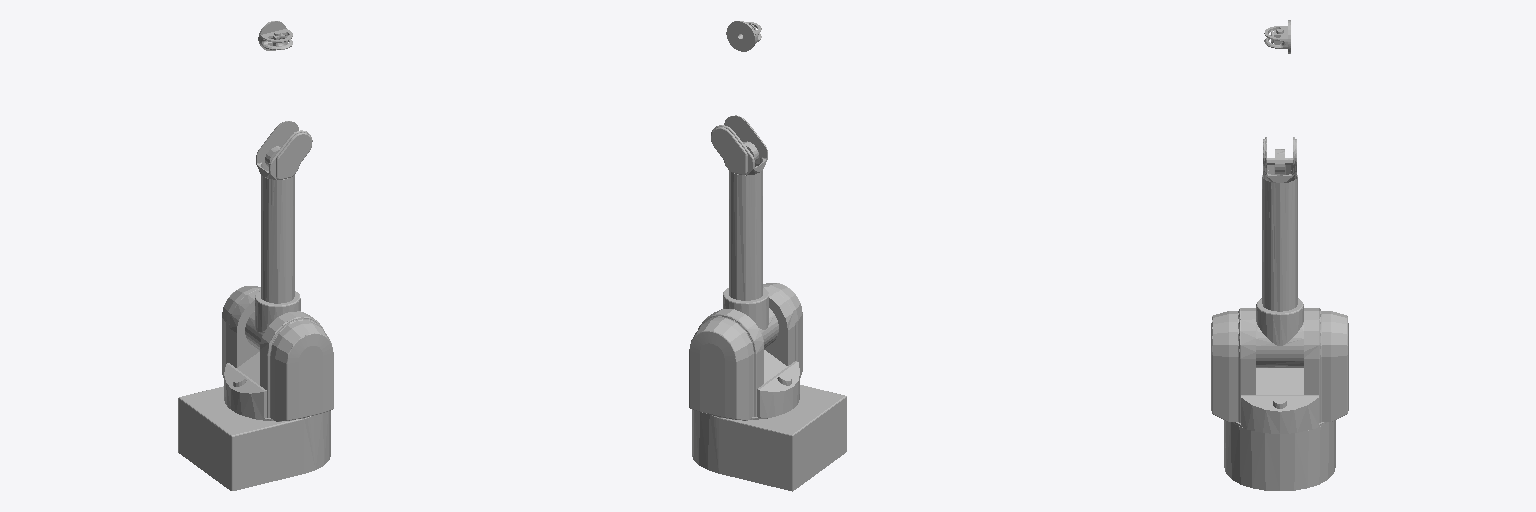
URDF robot description (iri_wam):
<?xml version="1.0" ?>
<!-- =================================================================================== -->
<!-- |    This document was autogenerated by xacro from xacro/wam_sim.urdf.xacro       | -->
<!-- |    EDITING THIS FILE BY HAND IS NOT RECOMMENDED                                 | -->
<!-- =================================================================================== -->
<robot name="iri_wam" xmlns:controller="http://playerstage.sourceforge.net/gazebo/xmlschema/#controller" xmlns:interface="http://playerstage.sourceforge.net/gazebo/xmlschema/#interface" xmlns:sensor="http://playerstage.sourceforge.net/gazebo/xmlschema/#sensor" xmlns:xacro="http://ros.org/wiki/xacro">
  <!-- Constants -->
  <!-- Includes -->
  <!-- MACROS -->
  <!-- LINKS   -->
  <link name="wambase">
    <inertial>
      <origin rpy="0 0 0" xyz="0 0 0"/>
      <mass value="1"/>
      <inertia ixx="100" ixy="0" ixz="0" iyy="100" iyz="0" izz="100"/>
    </inertial>
    <visual>
      <origin rpy="0 0 0" xyz="0 0 0"/>
      <geometry name="wambase-geom">
        <mesh filename="package://iri_wam_description/mesh/wambase.stl"/>
      </geometry>
      <material name="wambase-mat">
        <color rgba="0.75 0.75 0.75 1.0"/>
      </material>
    </visual>
    <collision>
      <origin rpy="0 0 0" xyz="0 0 0"/>
      <geometry name="wambase-geom">
        <mesh filename="package://iri_wam_description/mesh/wambase.stl"/>
      </geometry>
      <contact_coefficients kd="1.0" kp="1000.0" mu="0"/>
    </collision>
  </link>
  <!-- TODO: Try to add wam0 virtual Link and its corresponding joint since it is how it is defined on the real kinematics
           Not sure if this is possible -->
  <link name="wam_fk/wam1">
    <inertial>
      <origin rpy="0 0 0" xyz="0 0 0"/>
      <mass value="0.1"/>
      <inertia ixx="100" ixy="0" ixz="0" iyy="100" iyz="0" izz="100"/>
    </inertial>
    <visual>
      <origin rpy="0 0 0" xyz="0 0 0"/>
      <geometry name="wam1-geom">
        <mesh filename="package://iri_wam_description/mesh/wam1.stl"/>
      </geometry>
      <material name="wam1-mat">
        <color rgba="0.75 0.75 0.75 1.0"/>
      </material>
    </visual>
    <collision>
      <origin rpy="0 0 0" xyz="0 0 0"/>
      <geometry name="wam1-geom">
        <mesh filename="package://iri_wam_description/mesh/wam1.stl"/>
      </geometry>
      <contact_coefficients kd="1.0" kp="1000.0" mu="0"/>
    </collision>
  </link>
  <link name="wam_fk/wam2">
    <inertial>
      <origin rpy="0 0 0" xyz="0 0 0"/>
      <mass value="0.1"/>
      <inertia ixx="100" ixy="0" ixz="0" iyy="100" iyz="0" izz="100"/>
    </inertial>
    <visual>
      <origin rpy="0 0 0" xyz="0 0 0"/>
      <geometry name="wam2-geom">
        <mesh filename="package://iri_wam_description/mesh/wam2.stl"/>
      </geometry>
      <material name="wam2-mat">
        <color rgba="0.75 0.75 0.75 1.0"/>
      </material>
    </visual>
    <collision>
      <origin rpy="0 0 0" xyz="0 0 0"/>
      <geometry name="wam2-geom">
        <mesh filename="package://iri_wam_description/mesh/wam2.stl"/>
      </geometry>
      <contact_coefficients kd="1.0" kp="1000.0" mu="0"/>
    </collision>
  </link>
  <link name="wam_fk/wam3">
    <inertial>
      <origin rpy="0 0 0" xyz="0 0 0"/>
      <mass value="0.1"/>
      <inertia ixx="100" ixy="0" ixz="0" iyy="100" iyz="0" izz="100"/>
    </inertial>
    <visual>
      <origin rpy="0 0 0" xyz="0 0 0"/>
      <geometry name="wam3-geom">
        <mesh filename="package://iri_wam_description/mesh/wam3.stl"/>
      </geometry>
      <material name="wam3-mat">
        <color rgba="0.75 0.75 0.75 1.0"/>
      </material>
    </visual>
    <collision>
      <origin rpy="0 0 0" xyz="0 0 0"/>
      <geometry name="wam3-geom">
        <mesh filename="package://iri_wam_description/mesh/wam3.stl"/>
      </geometry>
      <contact_coefficients kd="1.0" kp="1000.0" mu="0"/>
    </collision>
  </link>
  <link name="wam_fk/wam4">
    <inertial>
      <origin rpy="0 0 0" xyz="0 0 0"/>
      <mass value="0.1"/>
      <inertia ixx="100" ixy="0" ixz="0" iyy="100" iyz="0" izz="100"/>
    </inertial>
    <visual>
      <origin rpy="0 0 0" xyz="0 0 0"/>
      <geometry name="wam4-geom">
        <mesh filename="package://iri_wam_description/mesh/wam4.stl"/>
      </geometry>
      <material name="wam4-mat">
        <color rgba="0.75 0.75 0.75 1.0"/>
      </material>
    </visual>
    <collision>
      <origin rpy="0 0 0" xyz="0 0 0"/>
      <geometry name="wam4-geom">
        <mesh filename="package://iri_wam_description/mesh/wam4.stl"/>
      </geometry>
      <contact_coefficients kd="1.0" kp="1000.0" mu="0"/>
    </collision>
  </link>
  <link name="wam_fk/wam5">
    <inertial>
      <origin rpy="0 0 0" xyz="0 0 0"/>
      <mass value="0.1"/>
      <inertia ixx="100" ixy="0" ixz="0" iyy="100" iyz="0" izz="100"/>
    </inertial>
    <visual>
      <origin rpy="0 0 0" xyz="0 0 0"/>
      <geometry name="wam5-geom">
        <mesh filename="package://iri_wam_description/mesh/wam5.stl"/>
      </geometry>
      <material name="wam5-mat">
        <color rgba="0.75 0.75 0.75 1.0"/>
      </material>
    </visual>
    <collision>
      <origin rpy="0 0 0" xyz="0 0 0"/>
      <geometry name="wam5-geom">
        <mesh filename="package://iri_wam_description/mesh/wam5.stl"/>
      </geometry>
      <contact_coefficients kd="1.0" kp="1000.0" mu="0"/>
    </collision>
  </link>
  <link name="wam_fk/wam6">
    <inertial>
      <origin rpy="0 0 0" xyz="0 0 0"/>
      <mass value="0.1"/>
      <inertia ixx="100" ixy="0" ixz="0" iyy="100" iyz="0" izz="100"/>
    </inertial>
    <visual>
      <origin rpy="0 0 0" xyz="0 0 0"/>
      <geometry name="wam6-geom">
        <mesh filename="package://iri_wam_description/mesh/wam6.stl"/>
      </geometry>
      <material name="wam6-mat">
        <color rgba="0.75 0.75 0.75 1.0"/>
      </material>
    </visual>
    <collision>
      <origin rpy="0 0 0" xyz="0 0 0"/>
      <geometry name="wam6-geom">
        <mesh filename="package://iri_wam_description/mesh/wam6.stl"/>
      </geometry>
      <contact_coefficients kd="1.0" kp="1000.0" mu="0"/>
    </collision>
  </link>
  <link name="wam_fk/wam7">
    <inertial>
      <origin rpy="0 0 0" xyz="0 0 0"/>
      <mass value="0.1"/>
      <inertia ixx="100" ixy="0" ixz="0" iyy="100" iyz="0" izz="100"/>
    </inertial>
    <visual>
      <origin rpy="0 0 0" xyz="0 0 0"/>
      <geometry name="wam7-geom">
        <mesh filename="package://iri_wam_description/mesh/wam7.stl"/>
      </geometry>
      <material name="wam7-mat">
        <color rgba="0.75 0.75 0.75 1.0"/>
      </material>
    </visual>
    <collision>
      <origin rpy="0 0 0" xyz="0 0 0"/>
      <geometry name="wam7-geom">
        <mesh filename="package://iri_wam_description/mesh/wam7.stl"/>
      </geometry>
      <contact_coefficients kd="1.0" kp="1000.0" mu="0"/>
    </collision>
  </link>
  <!-- JOINTS  -->
  <joint name="j1" type="revolute">
    <parent link="wambase"/>
    <child link="wam_fk/wam1"/>
    <origin rpy="0 0 0" xyz="0.22 0.14 0.346"/>
    <limit effort="30" lower="-2.6" upper="2.6" velocity="2"/>
    <axis xyz="0 0 1"/>
  </joint>
  <joint name="j2" type="revolute">
    <parent link="wam_fk/wam1"/>
    <child link="wam_fk/wam2"/>
    <origin rpy="0 0 0" xyz="0 0 0"/>
    <limit effort="30" lower="-2.0" upper="2.0" velocity="2"/>
    <axis xyz="0 1 0"/>
  </joint>
  <joint name="j3" type="revolute">
    <parent link="wam_fk/wam2"/>
    <child link="wam_fk/wam3"/>
    <origin rpy="0 0 0" xyz="0.0 0.0 0.0"/>
    <limit effort="30" lower="-2.8" upper="2.8" velocity="2"/>
    <axis xyz="0 0 1"/>
  </joint>
  <joint name="j4" type="revolute">
    <parent link="wam_fk/wam3"/>
    <child link="wam_fk/wam4"/>
    <origin rpy="-1.5708 0 0" xyz="0.045 0 0.55"/>
    <limit effort="30" lower="-0.9" upper="3.1" velocity="2"/>
    <axis xyz="0 0 1"/>
  </joint>
  <joint name="j5" type="revolute">
    <parent link="wam_fk/wam4"/>
    <child link="wam_fk/wam5"/>
    <origin rpy="1.5708 0 0" xyz="-0.045 -0.3 0"/>
    <limit effort="30" lower="-4.8" upper="1.3" velocity="2"/>
    <axis xyz="0 0 1"/>
  </joint>
  <joint name="j6" type="revolute">
    <parent link="wam_fk/wam5"/>
    <child link="wam_fk/wam6"/>
    <origin rpy="-1.5708 0 0" xyz="0 0 0"/>
    <limit effort="30" lower="-1.6" upper="1.6" velocity="2"/>
    <axis xyz="0 0 1"/>
  </joint>
  <joint name="j7" type="revolute">
    <parent link="wam_fk/wam6"/>
    <child link="wam_fk/wam7"/>
    <origin rpy="1.5708 0 0" xyz="0 0 0"/>
    <limit effort="30" lower="-2.2" upper="2.2" velocity="2"/>
    <axis xyz="0 0 1"/>
  </joint>
  <!-- Transmission -->
  <transmission name="linkb_link0_trans" type="pr2_mechanism_model/SimpleTransmission">
    <actuator name="linkb_link0_motor"/>
    <joint name="j0"/>
    <mechanicalReduction>1</mechanicalReduction>
    <motorTorqueConstant>1</motorTorqueConstant>
    <!--  <pulsesPerRevolution>90000</pulsesPerRevolution>-->
  </transmission>
  <transmission name="link0_link1_trans" type="pr2_mechanism_model/SimpleTransmission">
    <actuator name="link0_link1_motor"/>
    <joint name="j1"/>
    <mechanicalReduction>1</mechanicalReduction>
    <motorTorqueConstant>1</motorTorqueConstant>
    <!--  <pulsesPerRevolution>90000</pulsesPerRevolution>-->
  </transmission>
  <transmission name="link1_link2_trans" type="pr2_mechanism_model/SimpleTransmission">
    <actuator name="link1_link2_motor"/>
    <joint name="j2"/>
    <mechanicalReduction>1</mechanicalReduction>
    <motorTorqueConstant>1</motorTorqueConstant>
    <!--  <pulsesPerRevolution>90000</pulsesPerRevolution>-->
  </transmission>
  <transmission name="link2_link3_trans" type="pr2_mechanism_model/SimpleTransmission">
    <actuator name="link2_link3_motor"/>
    <joint name="j3"/>
    <mechanicalReduction>1</mechanicalReduction>
    <motorTorqueConstant>1</motorTorqueConstant>
    <!--  <pulsesPerRevolution>90000</pulsesPerRevolution>-->
  </transmission>
  <transmission name="link3_link4_trans" type="pr2_mechanism_model/SimpleTransmission">
    <actuator name="link3_link4_motor"/>
    <joint name="j4"/>
    <mechanicalReduction>1</mechanicalReduction>
    <motorTorqueConstant>1</motorTorqueConstant>
    <!--  <pulsesPerRevolution>90000</pulsesPerRevolution>-->
  </transmission>
  <transmission name="link4_link5_trans" type="pr2_mechanism_model/SimpleTransmission">
    <actuator name="link4_link5_motor"/>
    <joint name="j5"/>
    <mechanicalReduction>1</mechanicalReduction>
    <motorTorqueConstant>1</motorTorqueConstant>
    <!--  <pulsesPerRevolution>90000</pulsesPerRevolution>-->
  </transmission>
  <transmission name="link5_link6_trans" type="pr2_mechanism_model/SimpleTransmission">
    <actuator name="link5_link6_motor"/>
    <joint name="j6"/>
    <mechanicalReduction>1</mechanicalReduction>
    <motorTorqueConstant>1</motorTorqueConstant>
    <!--  <pulsesPerRevolution>90000</pulsesPerRevolution>-->
  </transmission>
  <transmission name="link6_link7_trans" type="pr2_mechanism_model/SimpleTransmission">
    <actuator name="link6_link7_motor"/>
    <joint name="j7"/>
    <mechanicalReduction>1</mechanicalReduction>
    <motorTorqueConstant>1</motorTorqueConstant>
    <!--  <pulsesPerRevolution>90000</pulsesPerRevolution>-->
  </transmission>
  <!-- PLUGINS -->
  <gazebo>
    <controller:wam_gazebo name="wam_driver" plugin="libwam_gazebo.so">
      <alwaysOn>true</alwaysOn>
      <update>1000</update>
      <updateRate>1000.0</updateRate>
      <b1>wambase</b1>
      <b2>wam_fk/wam1</b2>
      <b3>wam_fk/wam2</b3>
      <b4>wam_fk/wam3</b4>
      <b5>wam_fk/wam4</b5>
      <b6>wam_fk/wam5</b6>
      <b7>wam_fk/wam6</b7>
      <b8>wam_fk/wam7</b8>
      <joint1>j1</joint1>
      <joint2>j2</joint2>
      <joint3>j3</joint3>
      <joint4>j4</joint4>
      <joint5>j5</joint5>
      <joint6>j6</joint6>
      <joint7>j7</joint7>
      <robotNamespace>/</robotNamespace>
    </controller:wam_gazebo>
  </gazebo>
</robot>

--- What the picture shows (computed from the rendered views, not written in the file) ---
Views: 3 orthographic renders of the robot side by side, from view 1: azimuth 30°, elevation 25°; view 2: azimuth 150°, elevation 25°; view 3: azimuth 270°, elevation 25°.
Robot: iri_wam — 8 links, 7 joints (7 revolute); root link wambase; default pose: every joint at zero.
Links seen in each view (by area): view 1: wam_fk/wam1, wambase, wam_fk/wam3, wam_fk/wam2, wam_fk/wam5; view 2: wam_fk/wam1, wambase, wam_fk/wam3, wam_fk/wam2, wam_fk/wam5; view 3: wam_fk/wam1, wambase, wam_fk/wam3, wam_fk/wam2, wam_fk/wam5.
Link boxes in pixels (box(x1,y1,x2,y2)): wam_fk/wam1: box(222, 286, 333, 421); wambase: box(178, 386, 330, 490); wam_fk/wam3: box(256, 121, 312, 303); wam_fk/wam2: box(245, 291, 300, 350); wam_fk/wam5: box(258, 21, 292, 50); wam_fk/wam1: box(689, 283, 802, 420); wambase: box(692, 385, 846, 491); wam_fk/wam3: box(711, 115, 767, 300); wam_fk/wam2: box(723, 288, 778, 348); wam_fk/wam5: box(726, 21, 761, 51); wam_fk/wam1: box(1211, 308, 1348, 433); wambase: box(1224, 420, 1335, 490); wam_fk/wam3: box(1262, 137, 1297, 311); wam_fk/wam2: box(1256, 298, 1303, 367); wam_fk/wam5: box(1264, 20, 1290, 53).
Bounding box of the posed robot: 0.36 × 0.3476 × 1.24 m (x, y, z).
Meshes: 8 distinct files referenced, 5 mesh visuals loaded (5 binary STL); not drawn: 3 (reference not matched to a file when rendering).